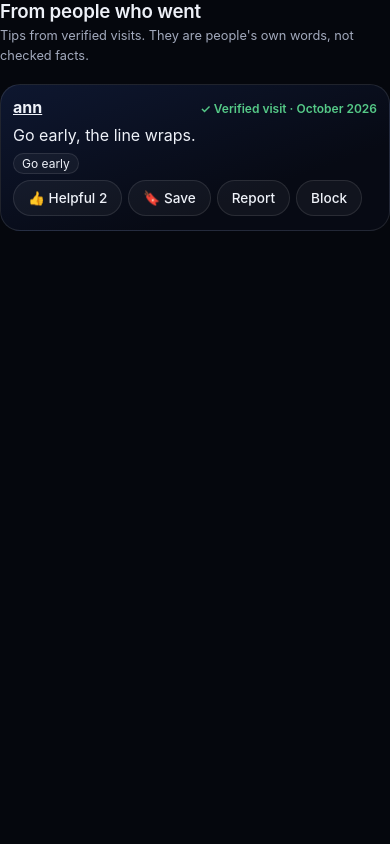
Scenario: TipsSection › warns before reporting, then reports with a reason and hides the tip for the reporter
Click the button "Report": (253, 198) [217,180,290,216]
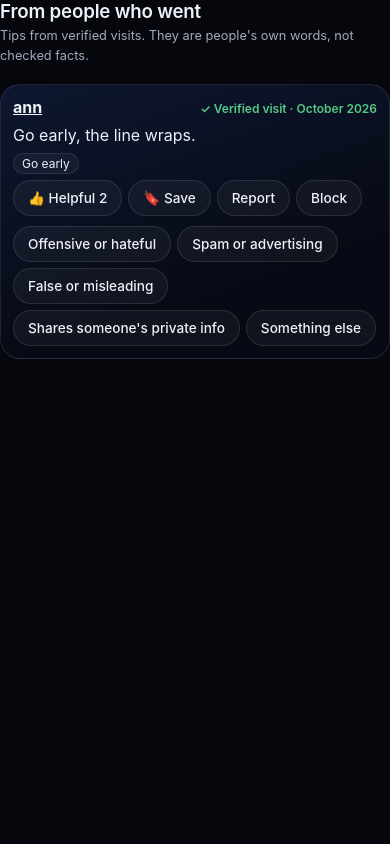
Click the button "Offensive or hateful": (92, 244) [13,226,171,262]
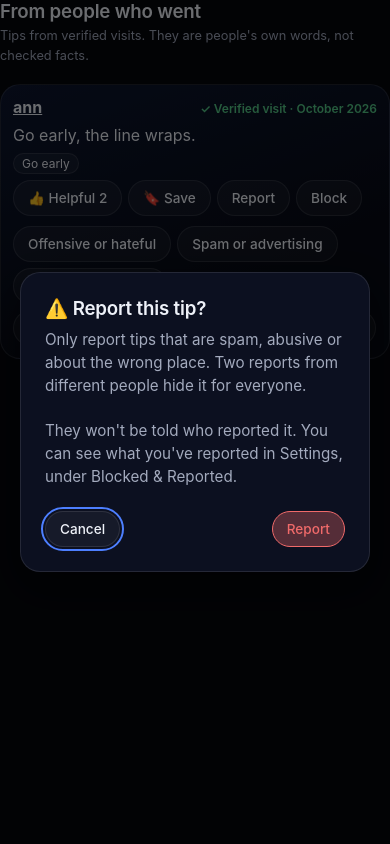
Check: the dialog shows "Report this tip?", box [73,297,206,320]
Click the button "Report": (308, 529) [272,511,345,547]
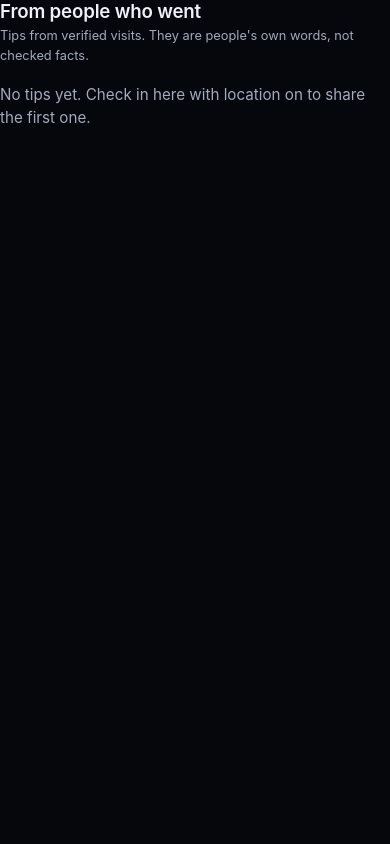
Check: the text "Go early" is gone
